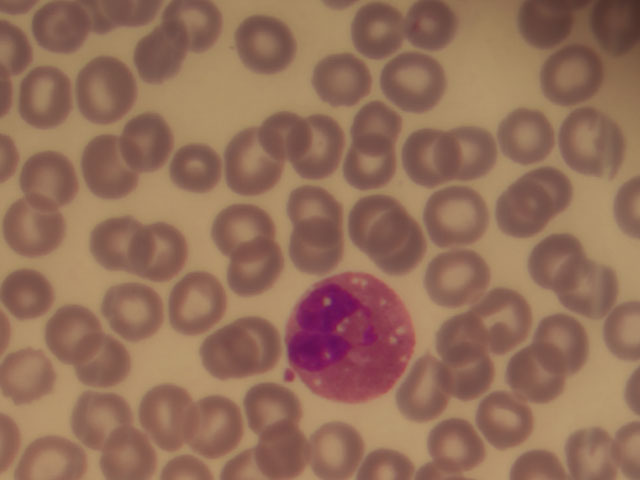RBC: (557, 107, 627, 174), (501, 164, 571, 231), (219, 132, 283, 193), (167, 275, 227, 335), (227, 242, 287, 302), (218, 194, 278, 254), (286, 168, 346, 228), (313, 50, 373, 108), (348, 5, 408, 63), (31, 2, 91, 59), (236, 14, 296, 71), (386, 50, 446, 107), (398, 126, 454, 187), (443, 123, 499, 184), (498, 105, 554, 166), (541, 44, 597, 105), (165, 1, 225, 57), (402, 1, 462, 57), (197, 329, 258, 384), (187, 399, 248, 454), (147, 385, 208, 440), (67, 390, 128, 445), (97, 425, 158, 480), (250, 425, 311, 480), (306, 425, 367, 480), (293, 120, 354, 174), (19, 65, 72, 126), (77, 59, 130, 120), (133, 21, 186, 82), (1, 347, 53, 408), (284, 228, 345, 280), (344, 193, 405, 245), (362, 218, 423, 270), (428, 188, 489, 240), (515, 1, 576, 51), (82, 136, 137, 191), (22, 147, 77, 202), (5, 201, 60, 256), (2, 267, 57, 322), (109, 281, 164, 336), (42, 305, 97, 360), (76, 336, 131, 391), (524, 231, 581, 282), (559, 261, 616, 312), (428, 253, 485, 304), (479, 294, 536, 345), (435, 314, 492, 365), (400, 366, 457, 417), (438, 348, 495, 399), (505, 349, 562, 400), (534, 314, 591, 365), (478, 396, 535, 447), (428, 419, 485, 470), (244, 378, 301, 429), (87, 215, 140, 267), (135, 223, 188, 275), (121, 113, 175, 164), (172, 141, 223, 193), (20, 436, 78, 480), (351, 100, 403, 146), (343, 139, 395, 185), (258, 111, 303, 150)
WBC: (287, 270, 413, 404)
